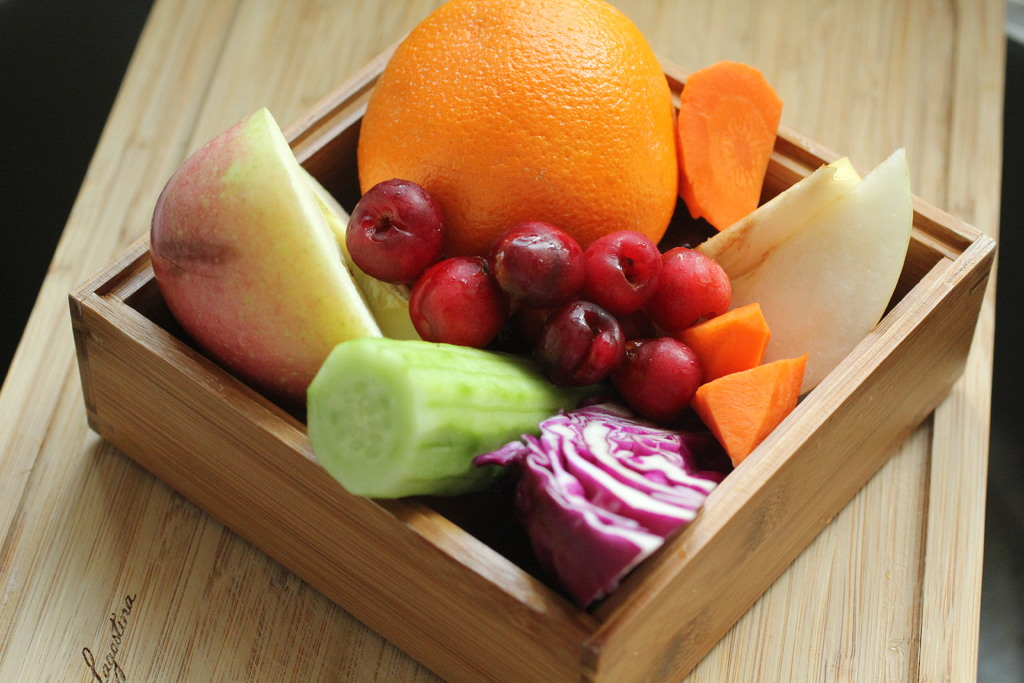Apple: (135, 123, 385, 418), (726, 144, 916, 397), (694, 151, 861, 283), (296, 162, 412, 340)
